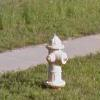Hydrant: (37, 27, 71, 90)
